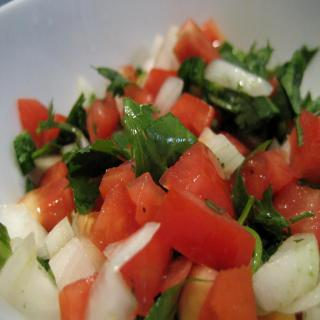tomato: (91, 164, 170, 312), (153, 186, 254, 272), (178, 264, 256, 320), (21, 161, 79, 231), (240, 148, 296, 204), (286, 111, 320, 188), (167, 92, 216, 145), (20, 99, 65, 150), (173, 17, 220, 64)
